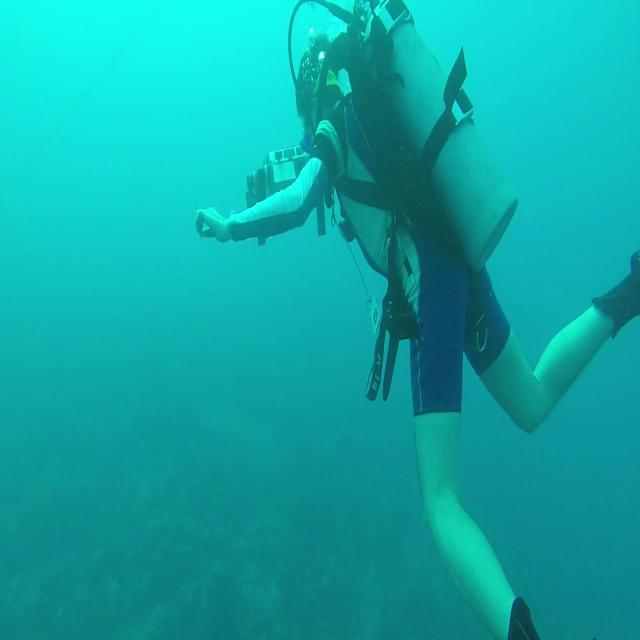human: (194, 0, 639, 638)
